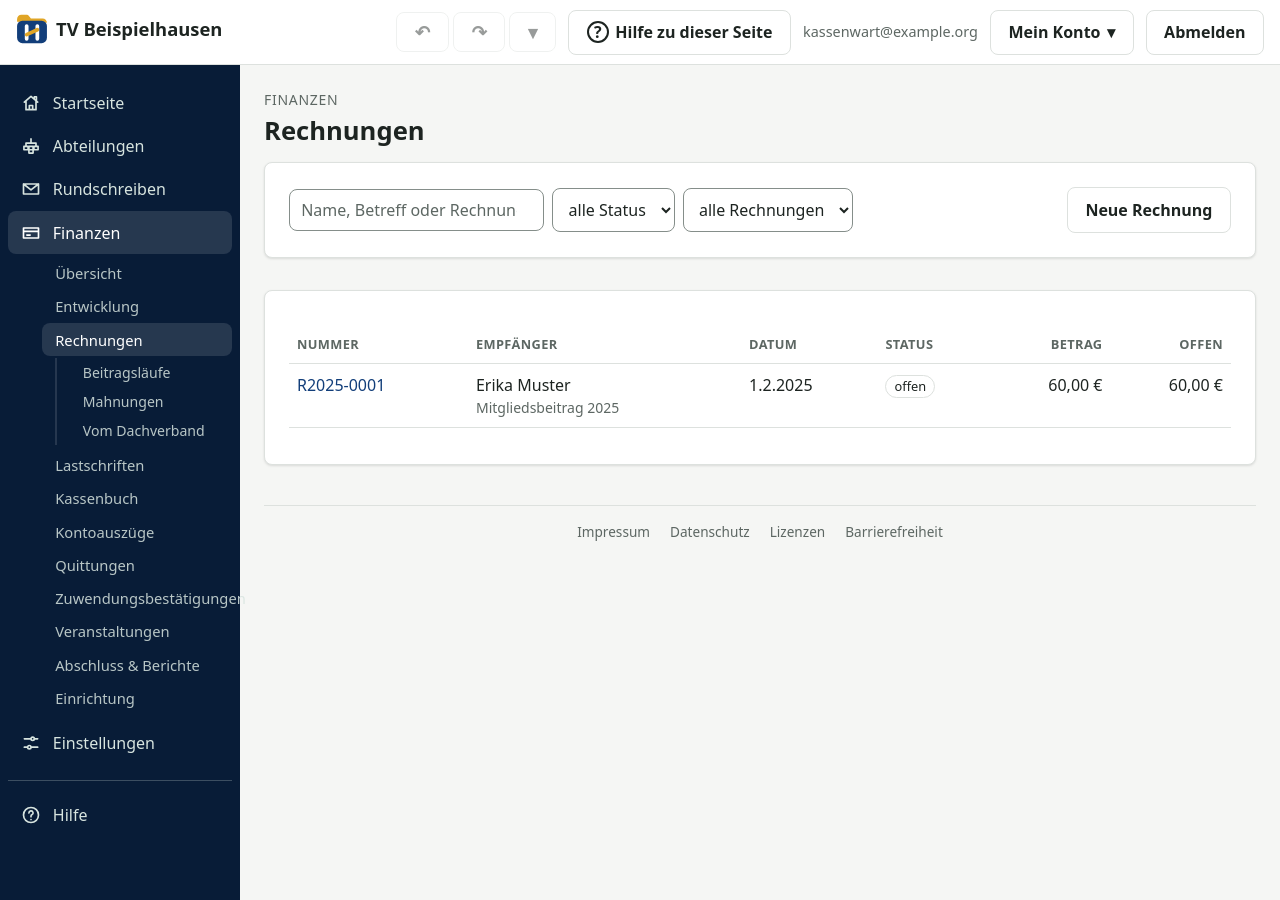
Test case: Beiträge › zeigt Rechnungen und bucht eine Zahlung
Click the button "R2025-0001".
click(341, 385)  # box [297,373,385,397]
(page scrolled)
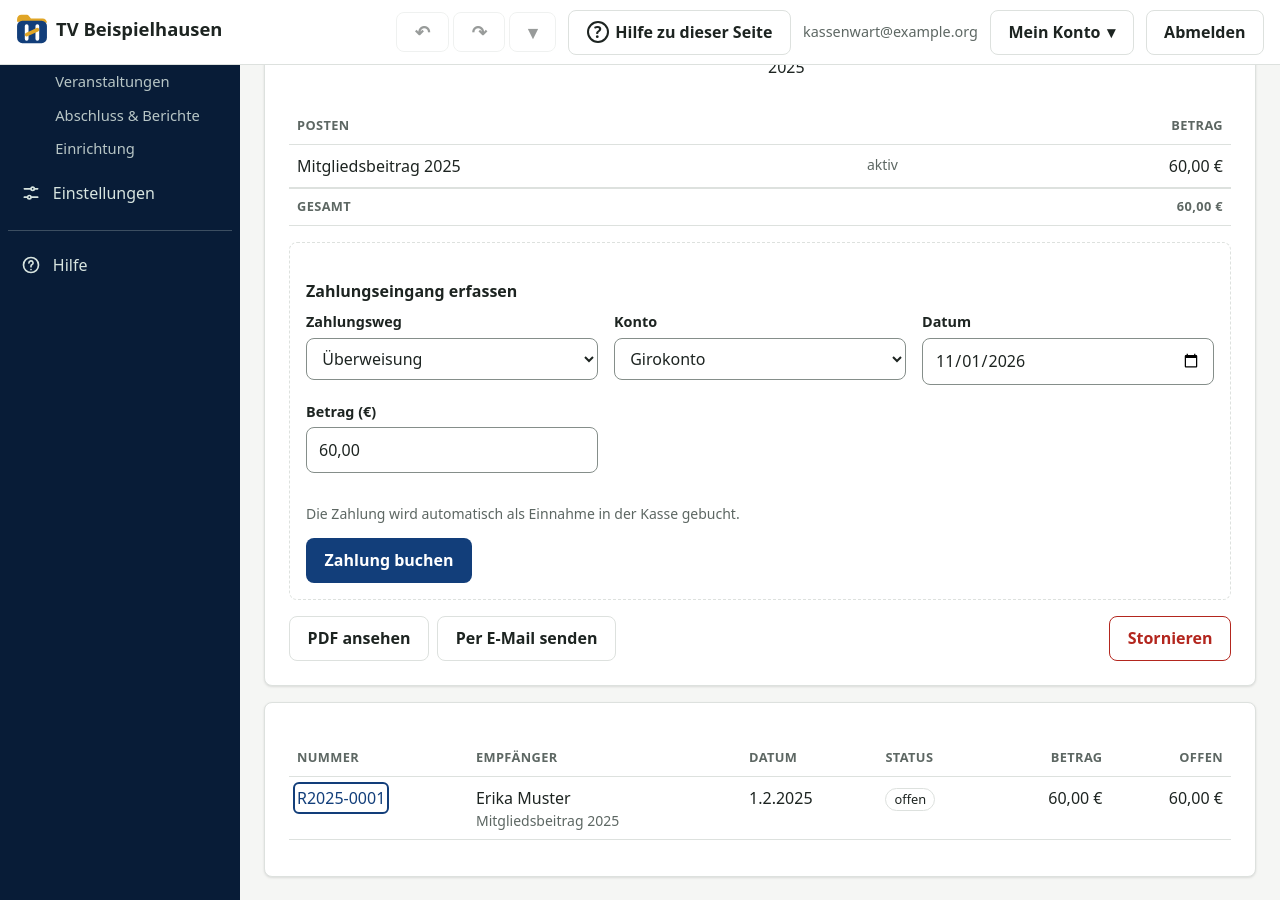
Now the field labelled "Betrag (€)" holds "60,00"
Replace the text in the field labelled "Betrag (€)" with "60" at (452, 450), box [306,428,598,473]
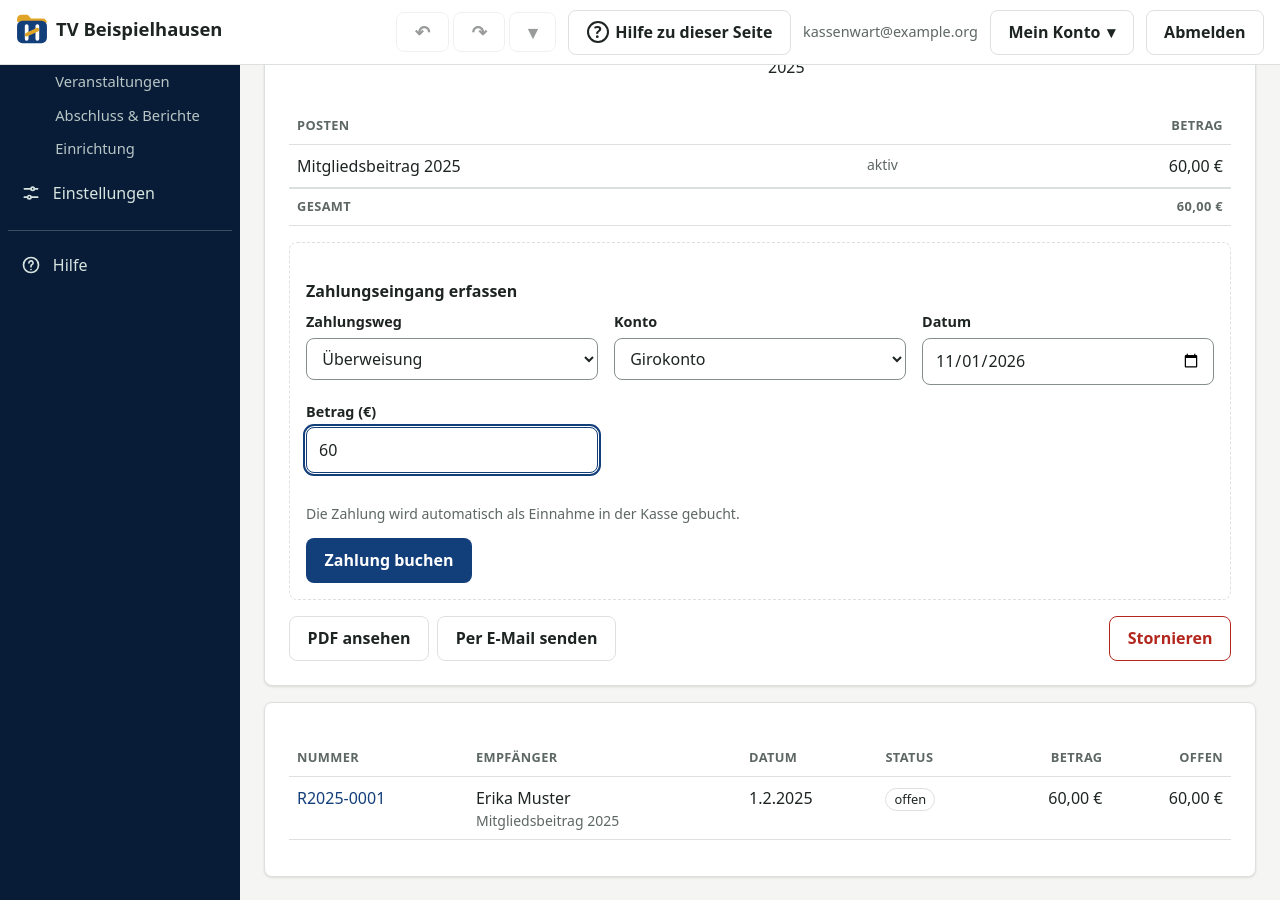
Click the button "Zahlung buchen".
click(389, 560)  # box [306,538,472,583]
(page scrolled)
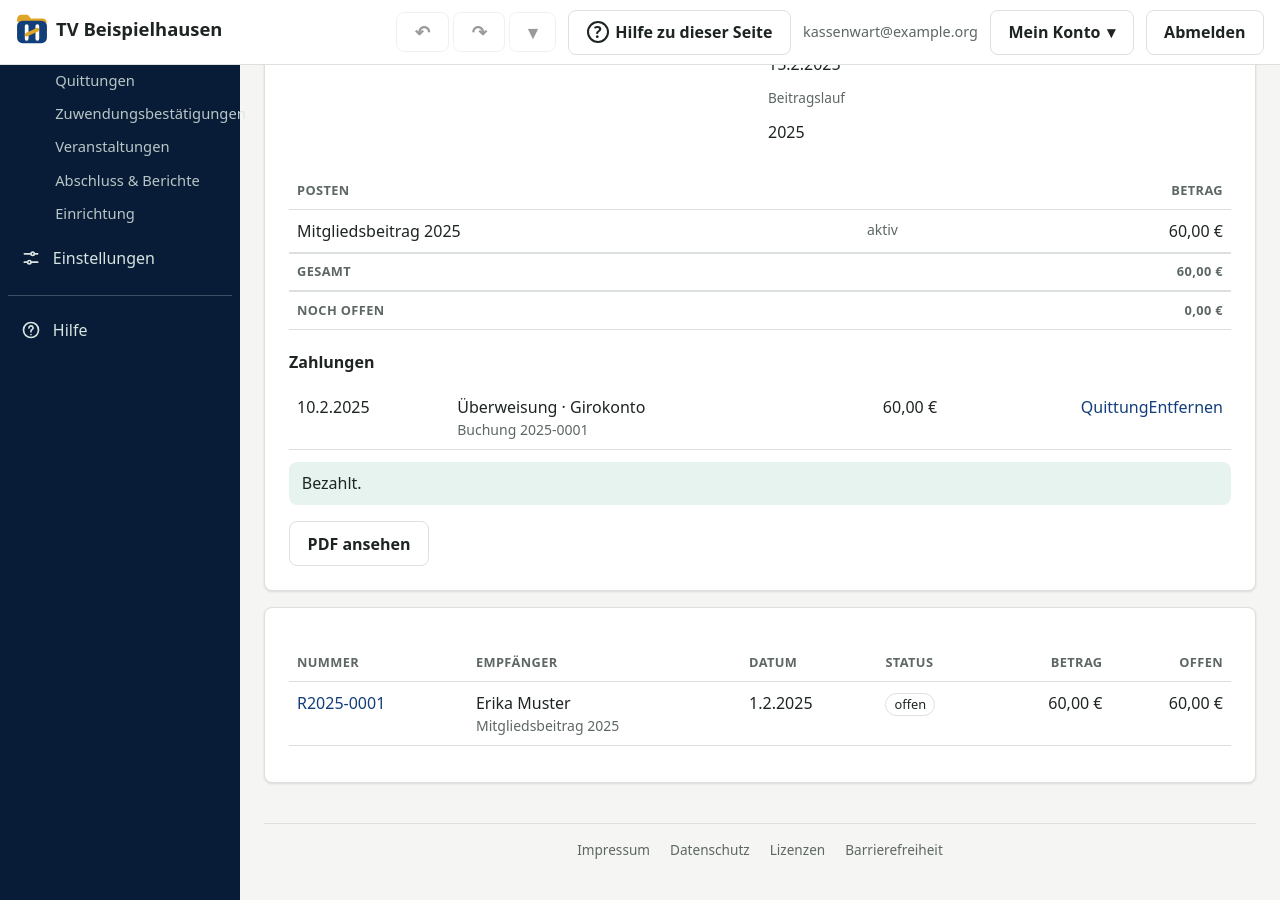
Now the text "Bezahlt." is shown, box [289,462,1231,505]
Now the text "Buchung 2025-0001" is shown, box [457,420,588,439]
